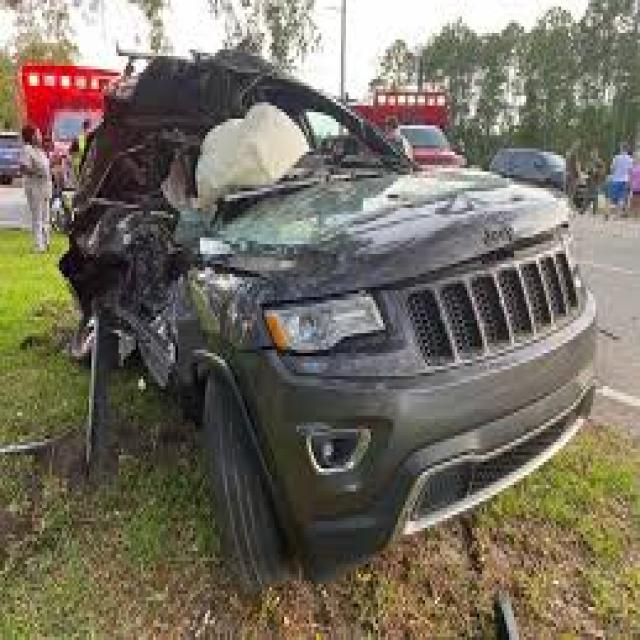severe: (13, 78, 342, 388)
